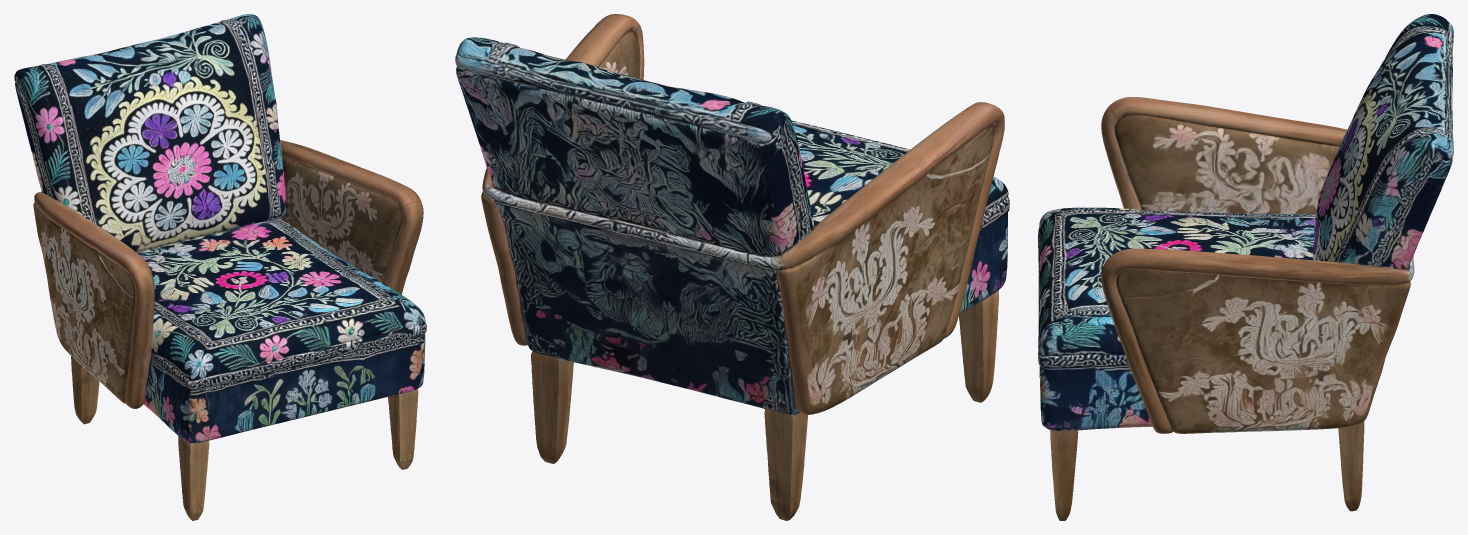
3 views of the same model, side by side, from view 1: azimuth 30°, elevation 25°; view 2: azimuth 150°, elevation 25°; view 3: azimuth 270°, elevation 25° (orthographic). The views are drawn at different scales.
Parts seen in each view (by area): view 1: model; view 2: model; view 3: model.
Boxes of the visible parts, x1,y1,x2,y2 form: model: (14,14,426,520); model: (455,14,1009,520); model: (1038,14,1453,520).
Size of the model in its own units: 0.7604 by 0.83 by 0.8179.
Materials: 1 (1 with a texture image).
